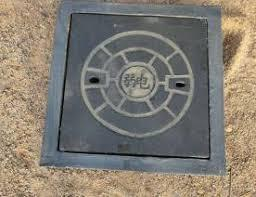wellcover: (37, 0, 227, 177)
